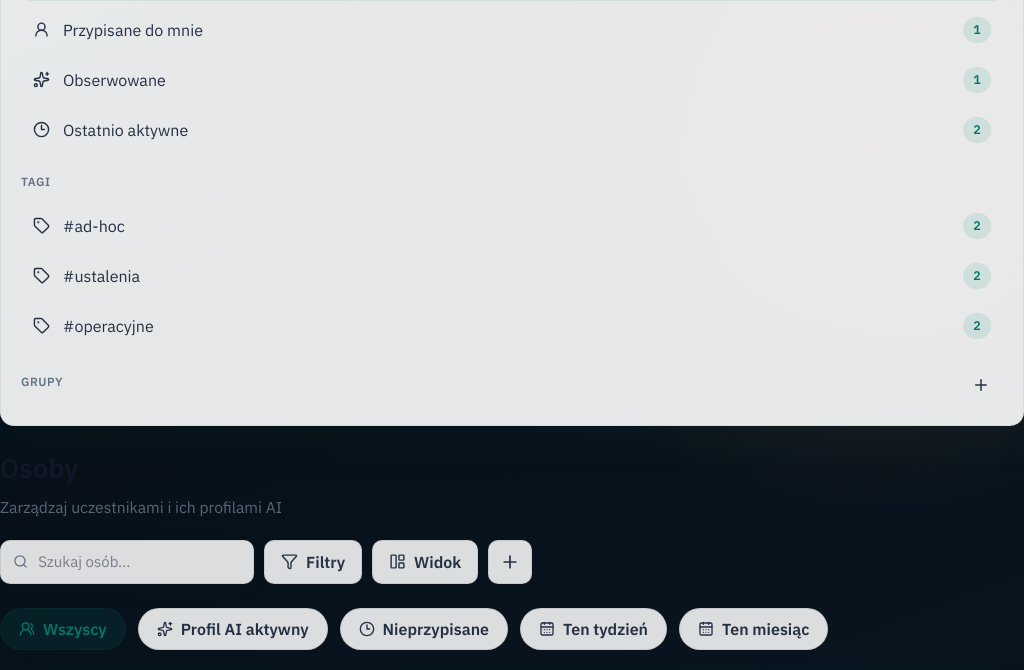
PeopleTab directory view › applies profile and unassigned filter chips
The image size is (1024, 670).
Click the button "Profil AI aktywny" at {"x": 233, "y": 629}, box [138,608,328,650]
(page scrolled)
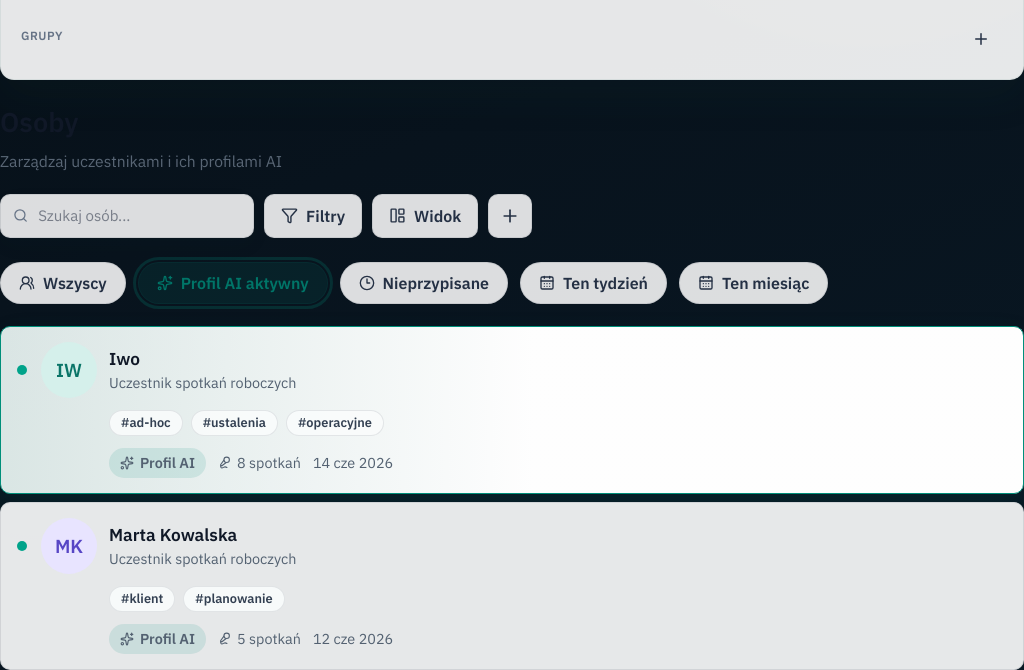
Expected: the text "Iwo" is shown, [109,347,140,370]
Click the button "Nieprzypisane" at {"x": 424, "y": 283}, box [340,262,508,304]
(page scrolled)
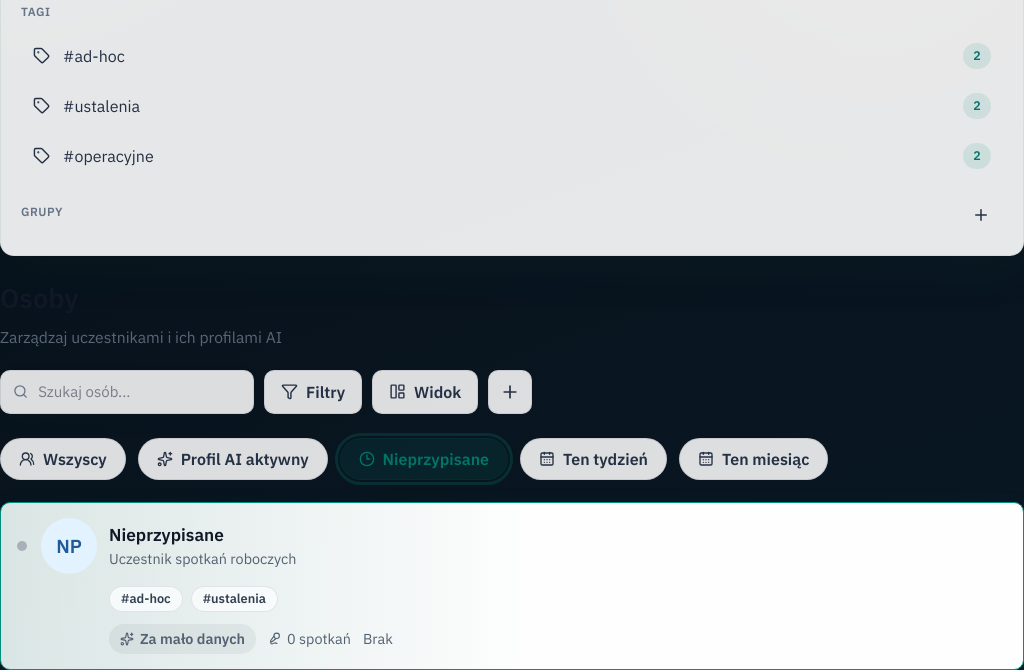
Expected: the text "Nieprzypisane" is shown, [109,523,224,546]
Expected: the button "Iwo" is gone
